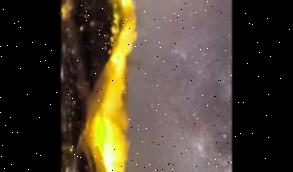fire: (95, 0, 141, 172)
